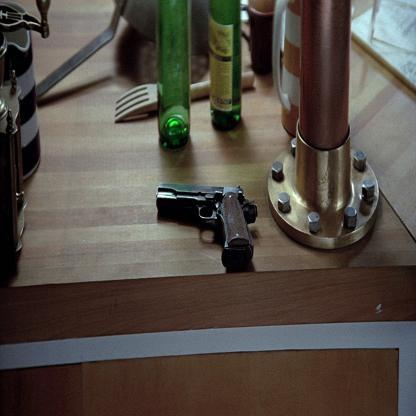gun: (159, 154, 258, 289)
